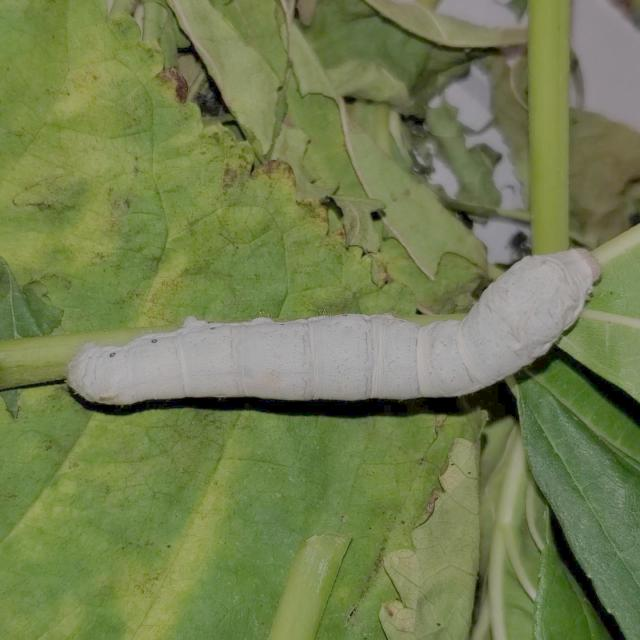Healthy: (66, 230, 606, 418)
